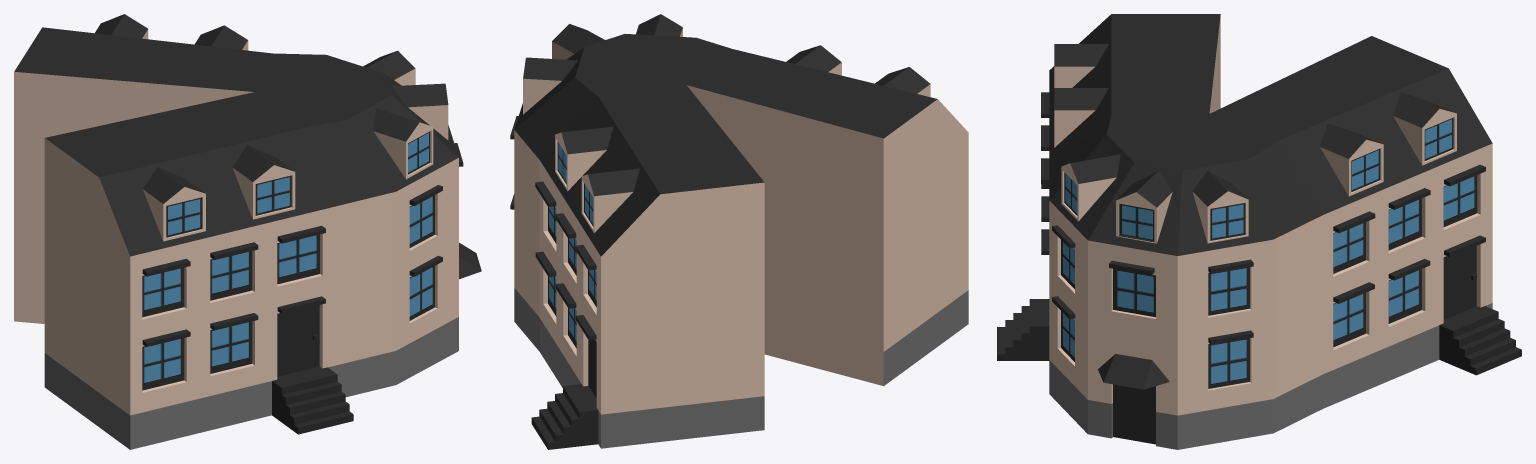
The model's file is CornerSquereLong.obj.
3 views of the same model, side by side, from view 1: azimuth 30°, elevation 25°; view 2: azimuth 150°, elevation 25°; view 3: azimuth 270°, elevation 25° (orthographic).
Parts seen in each view (by area): view 1: NaroznikDLUGI; view 2: NaroznikDLUGI; view 3: NaroznikDLUGI.
Part boxes in pixels (x1,y1,x2,y2): NaroznikDLUGI: [14, 14, 481, 449]; NaroznikDLUGI: [510, 14, 968, 449]; NaroznikDLUGI: [997, 14, 1521, 449].
Size of the model in its own units: 13.3 by 8.07 by 15.34.
